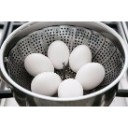begg: (26, 53, 54, 75), (60, 79, 84, 100), (71, 45, 91, 69)
